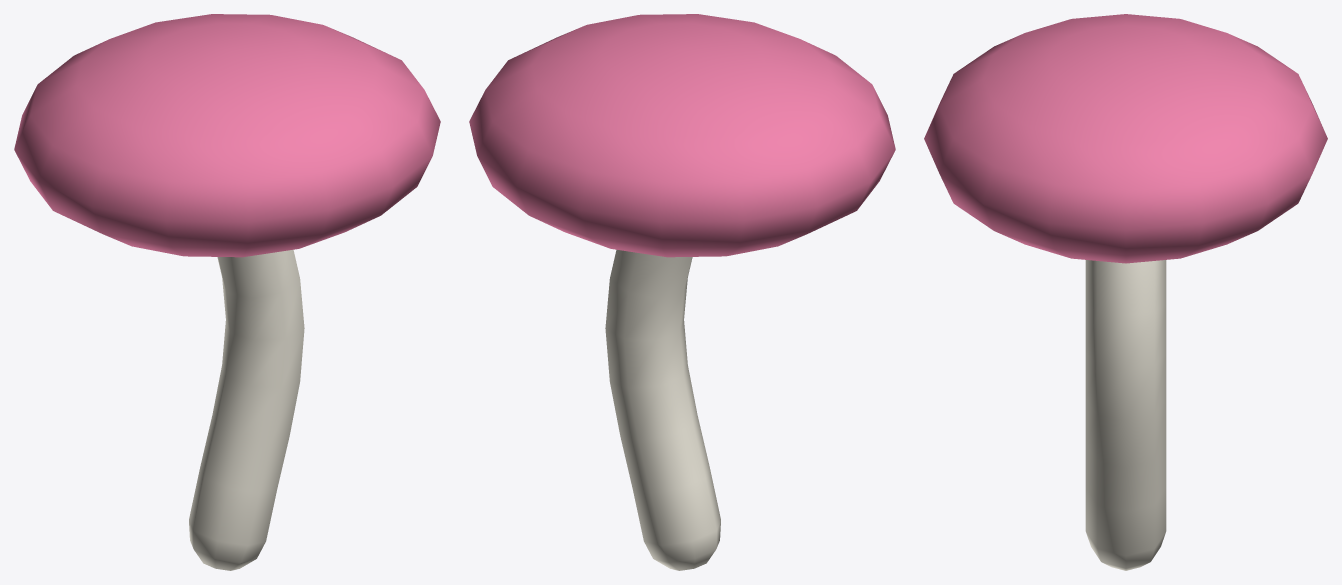
The model's file is mushroom_pink.glb.
3 renders of one model, left to right at view 1: azimuth 30°, elevation 25°; view 2: azimuth 150°, elevation 25°; view 3: azimuth 270°, elevation 25°, orthographic.
Parts seen in each view (by area): view 1: Cap, Stalk; view 2: Cap, Stalk; view 3: Cap, Stalk.
Part boxes in pixels (x1,y1,x2,y2): Cap: [14, 14, 440, 257]; Stalk: [189, 249, 304, 570]; Cap: [469, 14, 895, 257]; Stalk: [605, 249, 720, 570]; Cap: [924, 14, 1327, 263]; Stalk: [1085, 260, 1166, 570].
Size of the model in its own units: 0.3 by 0.3923 by 0.28.
